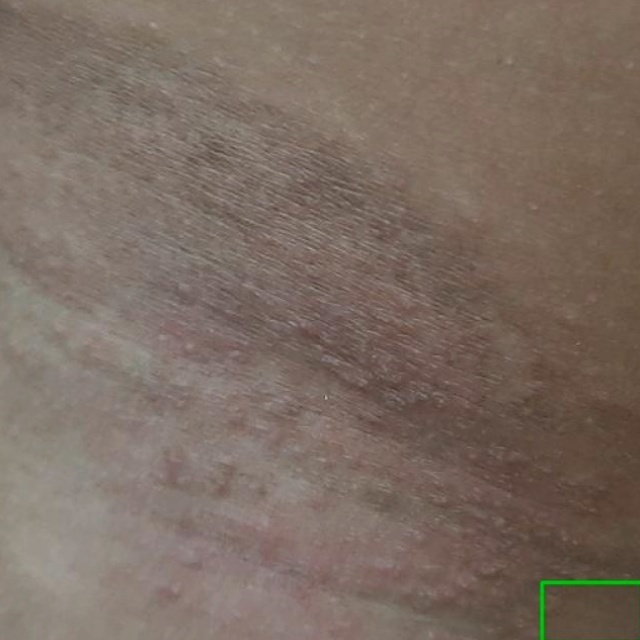Tinea Corporis: (541, 582, 639, 639)
